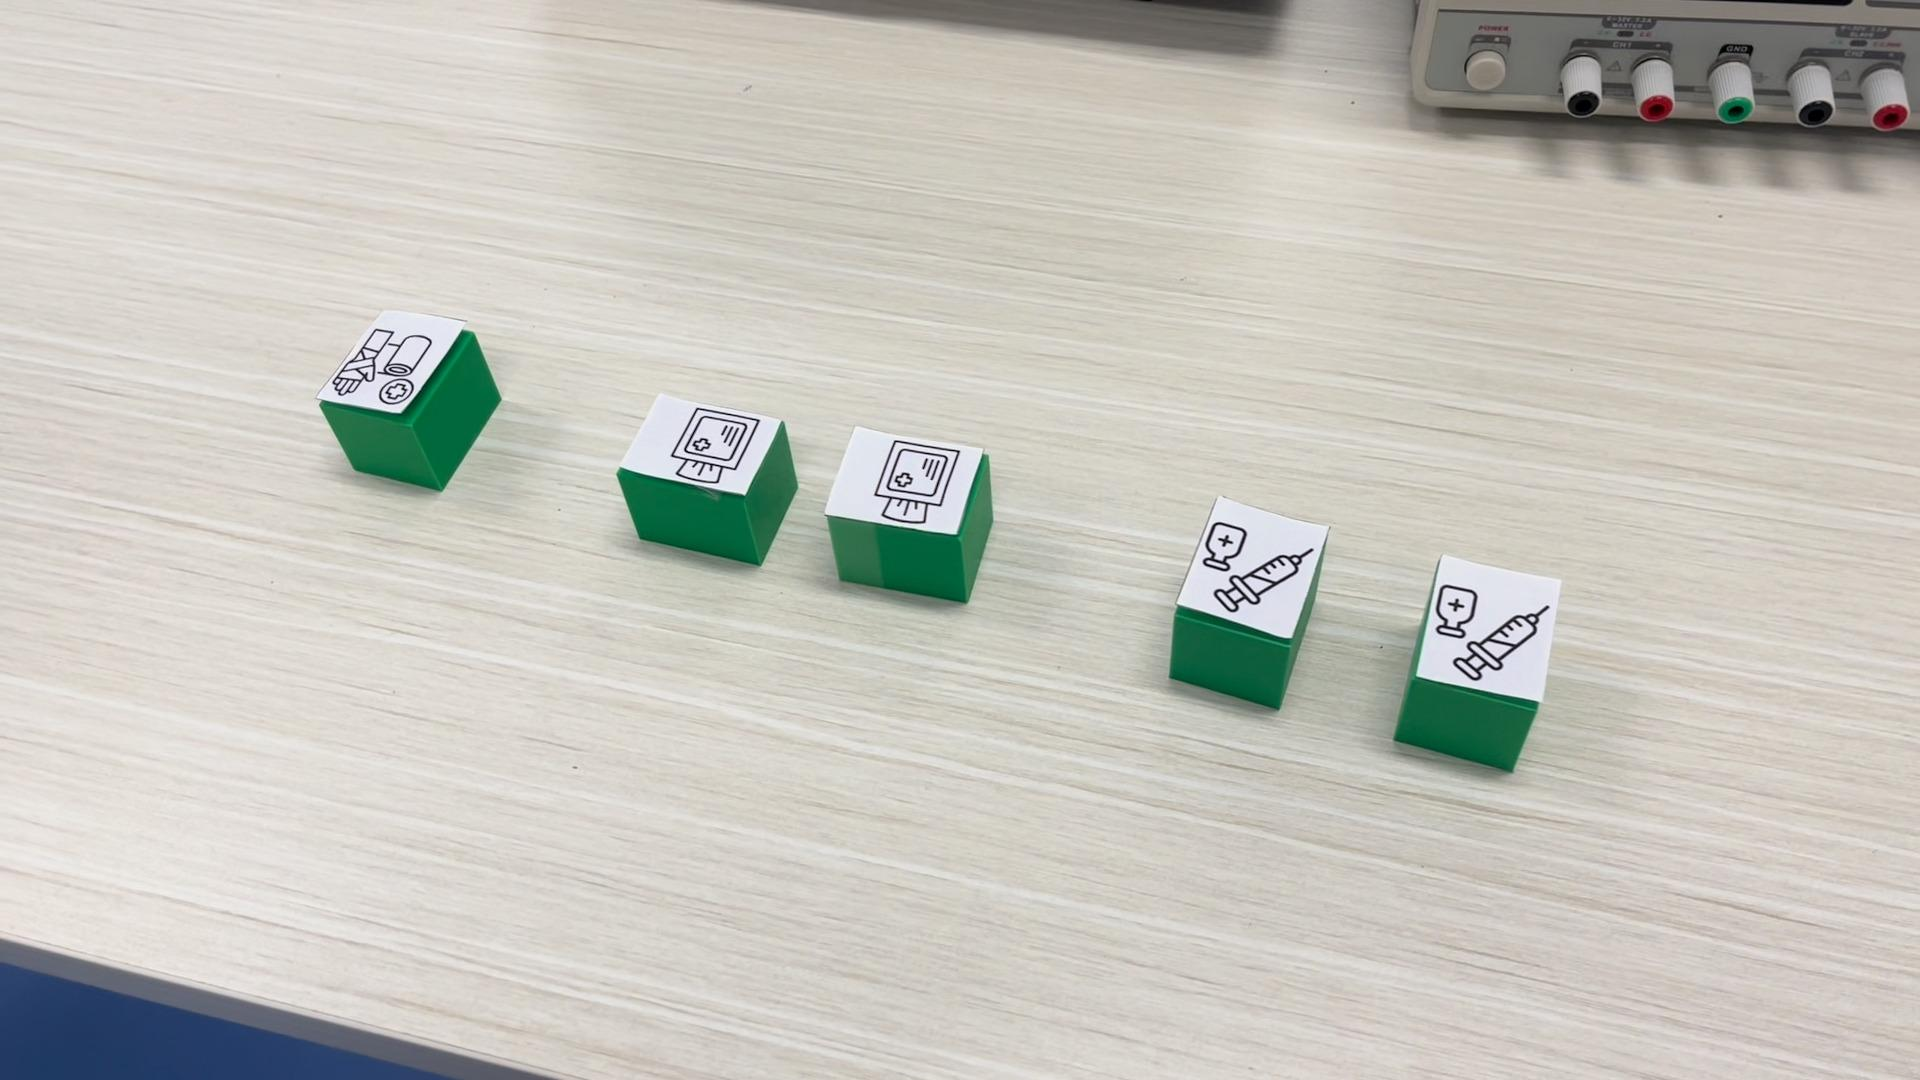Bandages: (318, 307, 502, 491)
Gauze: (617, 392, 796, 566), (824, 425, 994, 603)
antiseptic cream: (1393, 553, 1563, 771), (1166, 495, 1332, 709)
